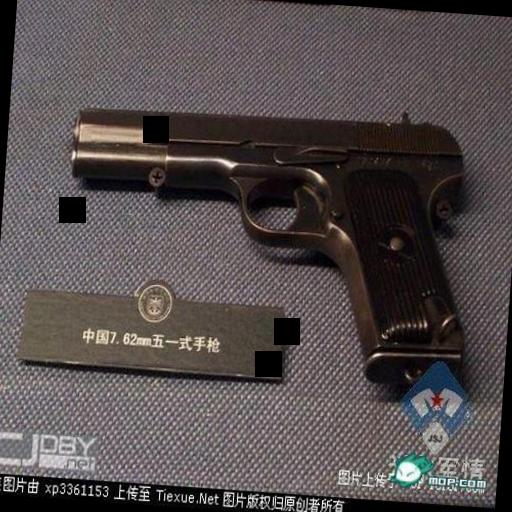Handgun: (54, 88, 476, 401)
